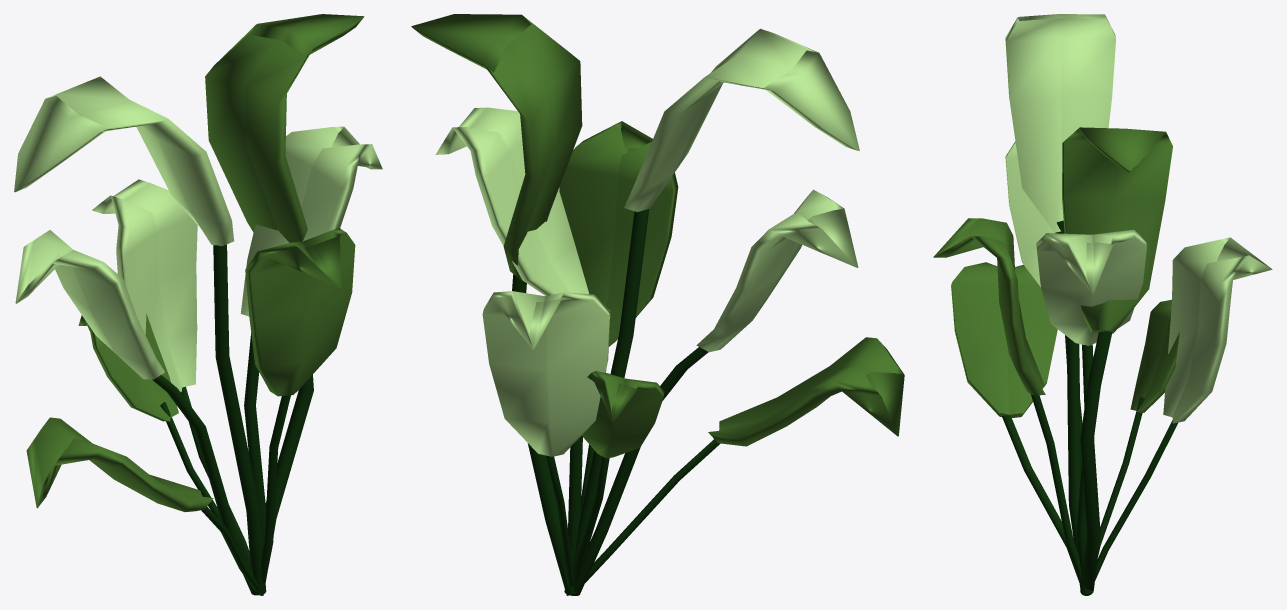
The model's file is hoja de berijao.glb.
3 views of the same model, side by side, from view 1: azimuth 30°, elevation 25°; view 2: azimuth 150°, elevation 25°; view 3: azimuth 270°, elevation 25° (orthographic). The views are drawn at different scales.
Visible parts, largest first — view 1: Cube.006, Cylinder.003, Cube.004, Cube.001, Cube.005, Cube.002, Cube.008, Cube.003, Cube.007; view 2: Cube.005, Cube.006, Cube.004, Cylinder.003, Cube.001, Cube.008, Cube.003, Cube.002, Cube.007; view 3: Cube.001, Cube.006, Cylinder.003, Cube.005, Cube.003, Cube.008, Cube.004, Cube.007, Cube.002.
Boxes of the visible parts, x1=… form: Cube.006: x1=205, y1=14, x2=364, y2=242; Cylinder.003: x1=152, y1=244, x2=313, y2=595; Cube.004: x1=245, y1=228, x2=355, y2=396; Cube.001: x1=14, y1=76, x2=234, y2=246; Cube.005: x1=92, y1=179, x2=197, y2=392; Cube.002: x1=15, y1=230, x2=164, y2=379; Cube.008: x1=240, y1=126, x2=382, y2=316; Cube.003: x1=26, y1=417, x2=213, y2=511; Cube.007: x1=78, y1=313, x2=178, y2=421; Cube.005: x1=482, y1=291, x2=610, y2=456; Cube.006: x1=411, y1=14, x2=582, y2=280; Cube.004: x1=559, y1=121, x2=678, y2=346; Cylinder.003: x1=512, y1=209, x2=720, y2=595; Cube.001: x1=624, y1=28, x2=859, y2=212; Cube.008: x1=435, y1=107, x2=589, y2=295; Cube.003: x1=708, y1=337, x2=904, y2=446; Cube.002: x1=696, y1=189, x2=858, y2=352; Cube.007: x1=582, y1=371, x2=664, y2=458; Cube.001: x1=1005, y1=14, x2=1115, y2=232; Cube.006: x1=1062, y1=127, x2=1172, y2=333; Cylinder.003: x1=1002, y1=220, x2=1177, y2=595; Cube.005: x1=1163, y1=237, x2=1272, y2=423; Cube.003: x1=951, y1=262, x2=1057, y2=417; Cube.008: x1=1036, y1=229, x2=1146, y2=345; Cube.004: x1=933, y1=218, x2=1045, y2=395; Cube.007: x1=1130, y1=299, x2=1179, y2=412; Cube.002: x1=1005, y1=141, x2=1054, y2=287.
Bounding box in the file's own units: 21.41 × 27.99 × 17.49.
